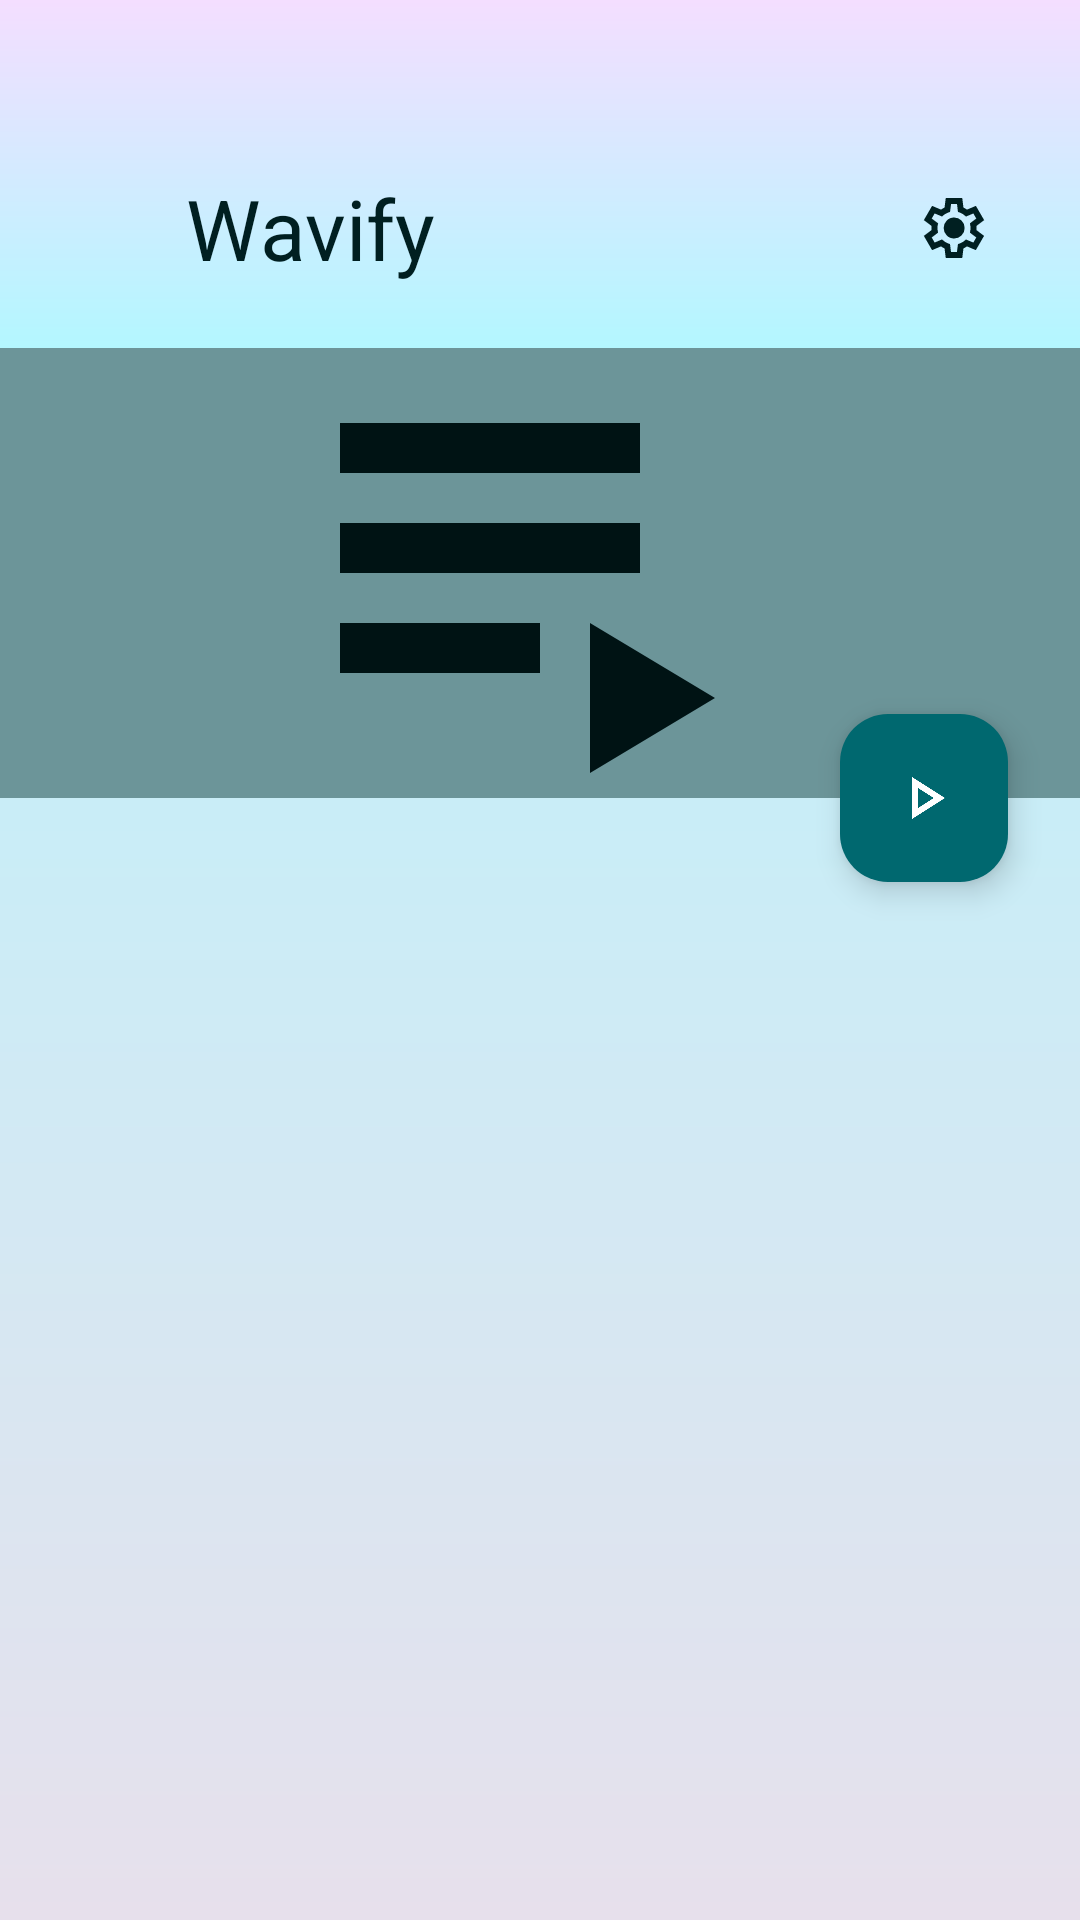

Icon click points for this 1080 × 1920 phone screenshot, format point (x, y):
play: point (924, 798)
